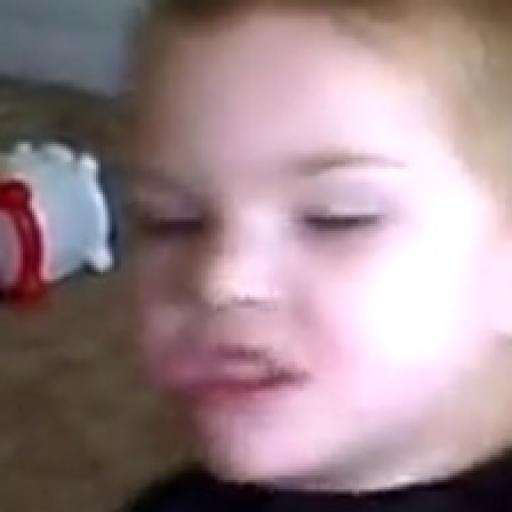Autism: (105, 7, 512, 491)
